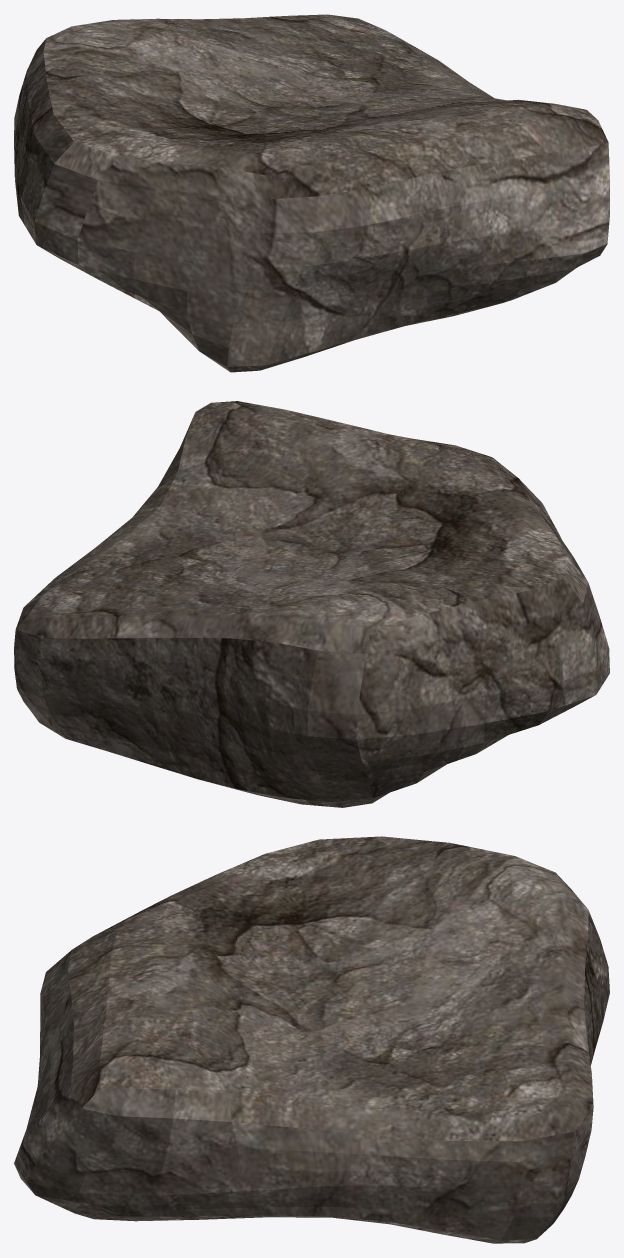
File: Stone.fbx
3 renders of one model, top to bottom at view 1: azimuth 30°, elevation 25°; view 2: azimuth 150°, elevation 25°; view 3: azimuth 270°, elevation 25°, orthographic. The views are drawn at different scales.
Parts seen in each view (by area): view 1: Cube; view 2: Cube; view 3: Cube.
Boxes of the visible parts, bbox=[...] form: Cube: bbox=[14, 14, 609, 372]; Cube: bbox=[14, 401, 609, 807]; Cube: bbox=[14, 836, 609, 1243].
Size of the model in its own units: 3.93 by 1.59 by 3.81.
1 material, 1 textured.
